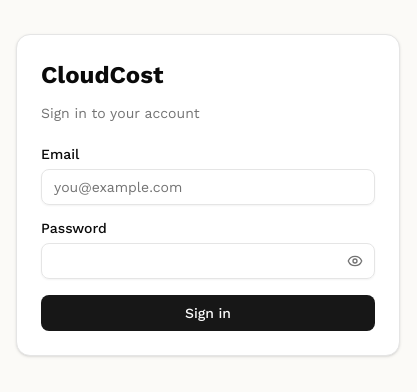
Test: LoginPage — failed login › shows an error message when login returns 401
Type "bad@example.com" into the field labelled "Email".
click(208, 187); type("bad@example.com")  # box [41, 169, 375, 205]
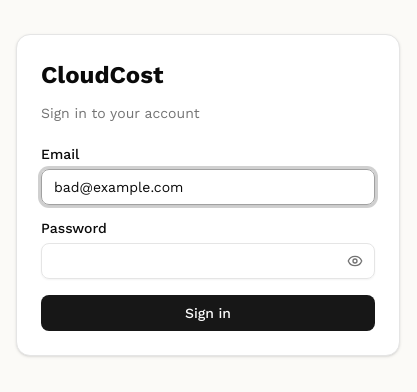
Type "wrongpass" into the password field labelled "Password".
click(208, 261); type("wrongpass")  # box [41, 243, 375, 279]
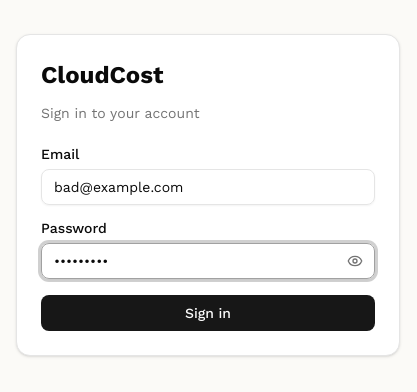
Click the button "Sign in".
click(208, 313)  # box [41, 295, 375, 331]
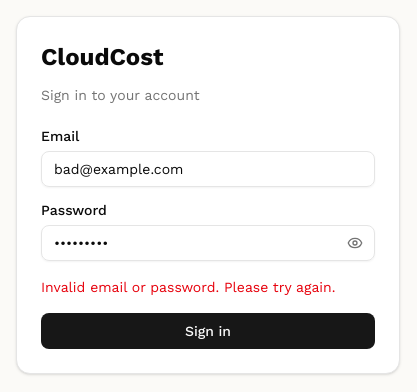
Expected: the text "Invalid email or password. Please try again." is shown, [41, 277, 375, 297]
